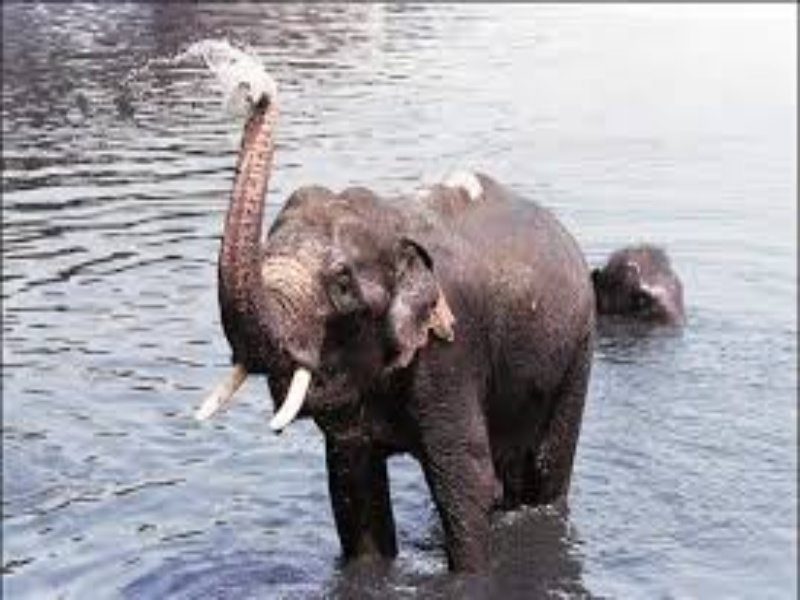elephant: (116, 39, 726, 587)
